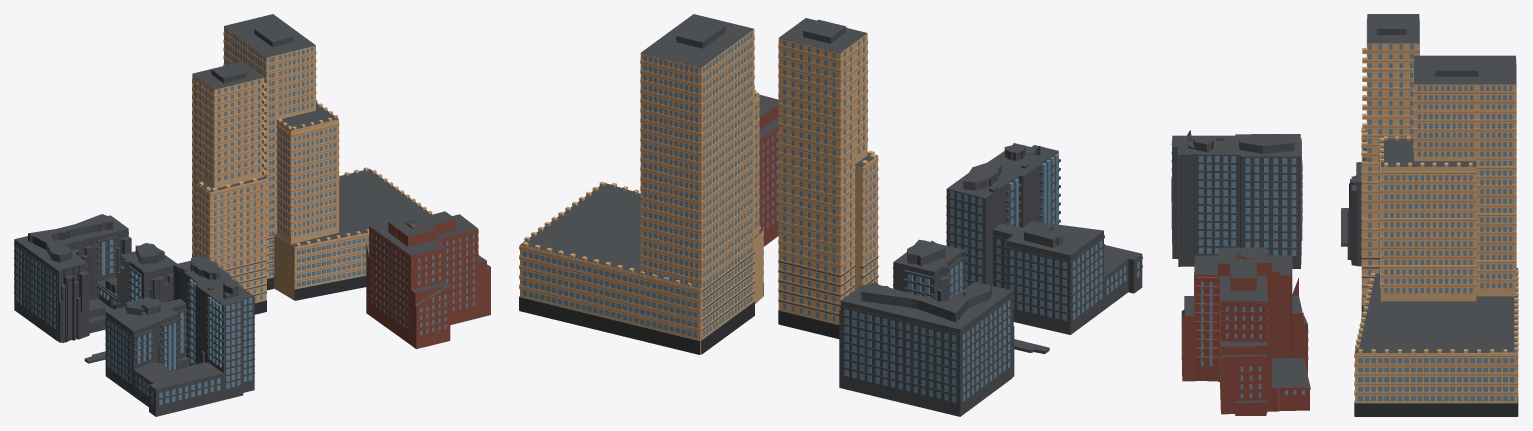
File: symphony.glb
3 views of the same model, side by side, from view 1: azimuth 30°, elevation 25°; view 2: azimuth 150°, elevation 25°; view 3: azimuth 270°, elevation 25° (orthographic). The views are drawn at different scales.
Parts seen in each view (by area): view 1: symphony; view 2: symphony; view 3: symphony.
Part boxes in pixels (box(x1,y1,x2,y2)): symphony: box(14, 14, 490, 416); symphony: box(519, 14, 1142, 416); symphony: box(1171, 14, 1518, 416).
Size of the model in its own units: 167 by 105 by 117.
